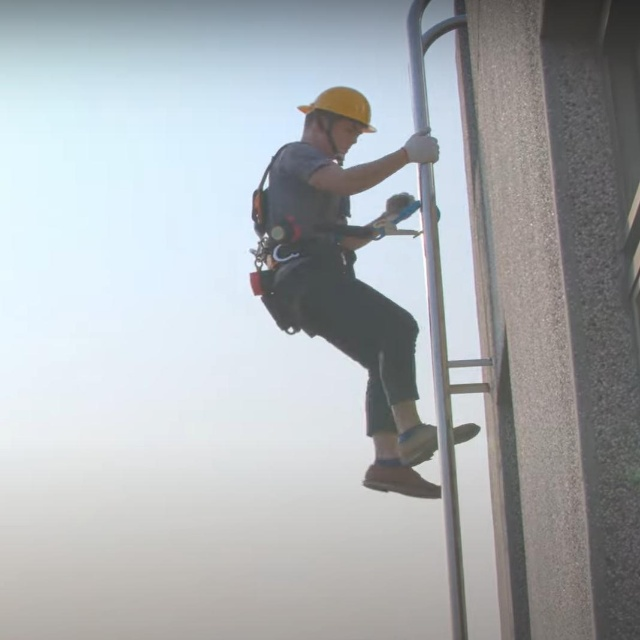Arnes_seguridad: (250, 142, 353, 334)
